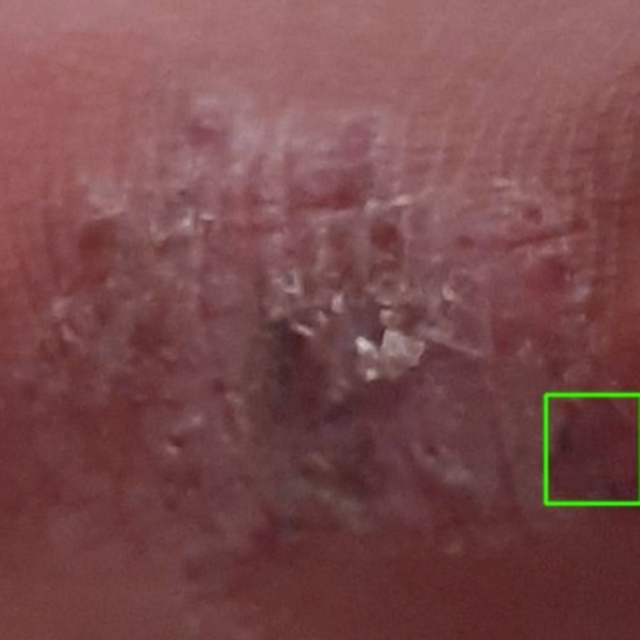Contact Dermatitis: (545, 394, 639, 503)
